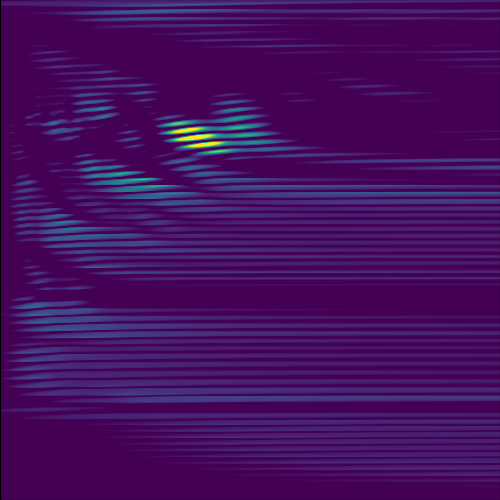semblance: (162, 114, 226, 154)
